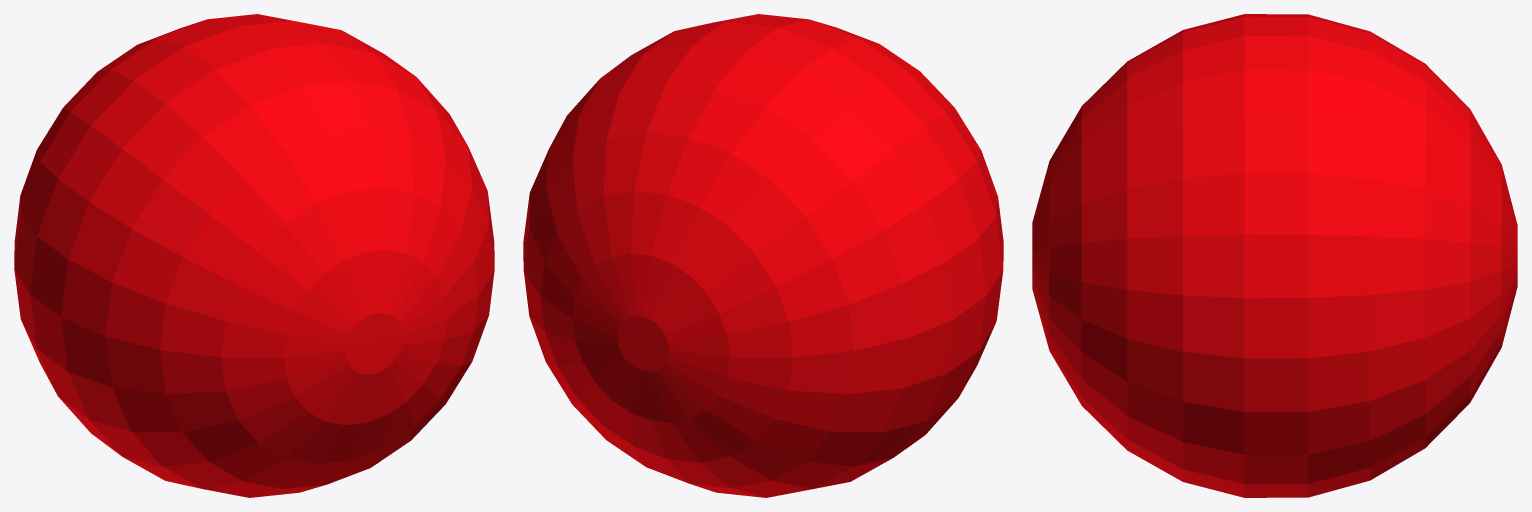
Rendered from shpere.dae.
The picture shows the model from 3 angles, left to right: view 1: azimuth 30°, elevation 25°; view 2: azimuth 150°, elevation 25°; view 3: azimuth 270°, elevation 25°; orthographic projection.
Visible parts, largest first — view 1: SketchUp; view 2: SketchUp; view 3: SketchUp.
Boxes of the visible parts, x1,y1,x2,y2 form: SketchUp: (14, 14, 494, 497); SketchUp: (523, 14, 1003, 497); SketchUp: (1032, 14, 1517, 497).
Bounding box in the file's own units: 547 × 547 × 547.
